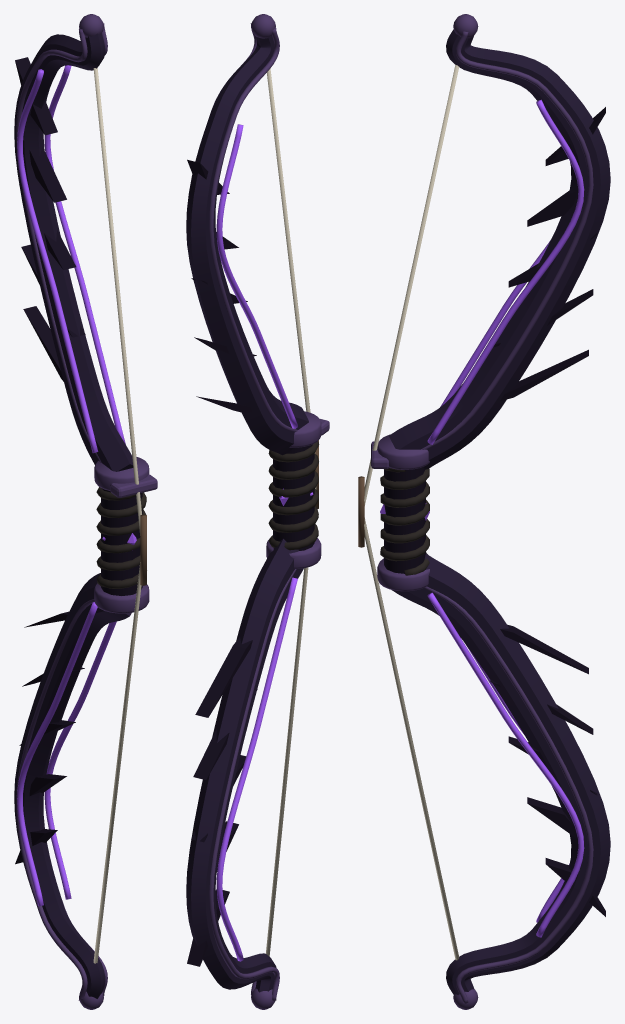
File: bow_void.fbx
3 views of the same model, side by side, from view 1: azimuth 30°, elevation 25°; view 2: azimuth 150°, elevation 25°; view 3: azimuth 270°, elevation 25° (orthographic).
Parts seen in each view (by area): view 1: bow_void; view 2: bow_void; view 3: bow_void.
Part boxes in pixels (x1=…): bow_void: x1=14, y1=14, x2=157, y2=1009; bow_void: x1=186, y1=14, x2=329, y2=1009; bow_void: x1=358, y1=14, x2=610, y2=1009.
Size of the model in its own units: 0.066 by 1.31 by 0.3018.
